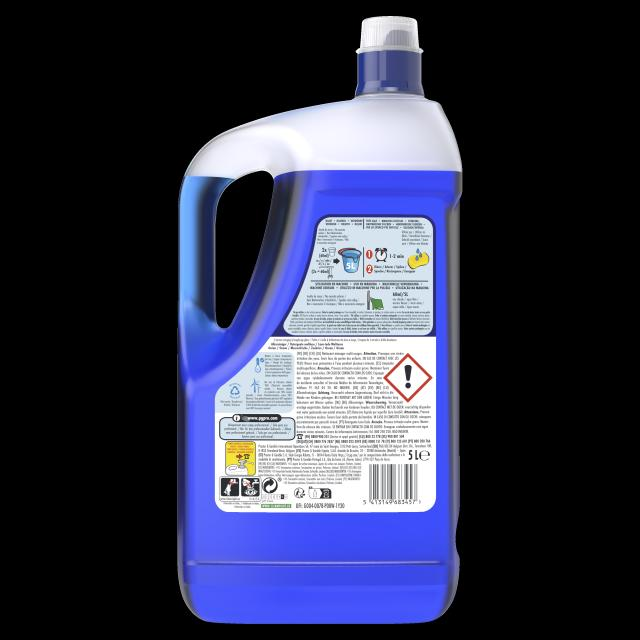GHS_Symbol_EXCLAMATION_MARK: (384, 353, 432, 402)
